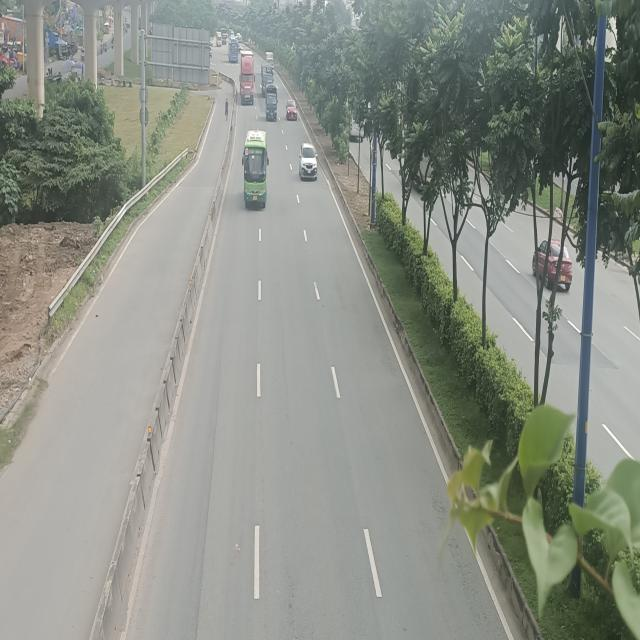car: (300, 143, 318, 184), (286, 99, 298, 123)
coach: (243, 130, 270, 210)
container: (240, 51, 256, 104)
truck: (265, 83, 278, 122)
